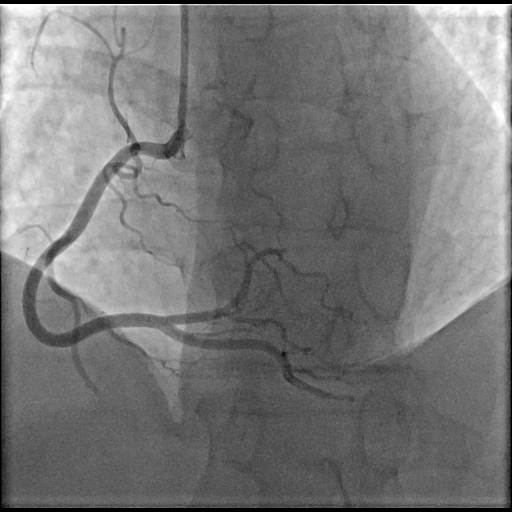RCA: (23, 126, 285, 358)
catherter: (176, 8, 190, 138)
